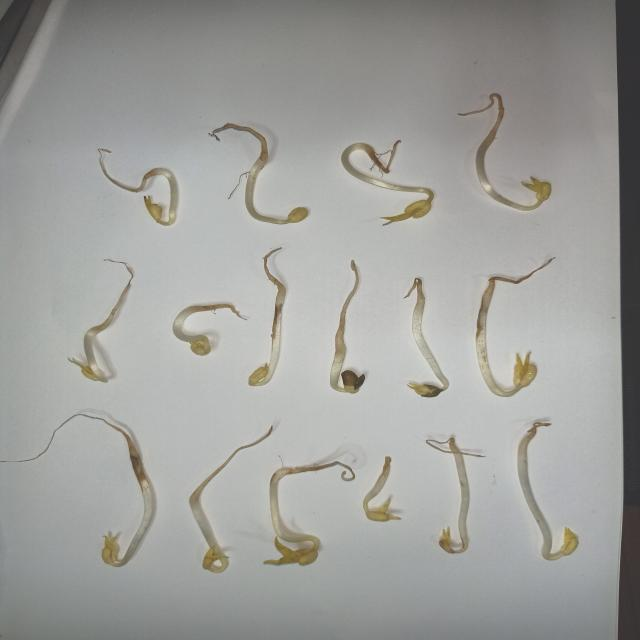leaf: (376, 200, 438, 226), (512, 354, 540, 389), (142, 197, 174, 227), (68, 356, 108, 380), (268, 548, 321, 565), (522, 178, 558, 202), (202, 548, 227, 572), (102, 534, 121, 562), (562, 527, 578, 557), (188, 336, 209, 356), (248, 364, 269, 384), (409, 383, 437, 398), (367, 510, 399, 523), (341, 371, 358, 393), (286, 208, 308, 224), (442, 528, 456, 553)
root: (26, 413, 149, 481), (180, 438, 260, 497), (462, 256, 573, 291), (86, 141, 152, 194), (84, 262, 132, 330), (325, 262, 363, 346), (207, 117, 267, 162), (293, 459, 355, 483), (366, 140, 400, 178), (265, 246, 291, 290), (484, 93, 506, 136), (404, 278, 425, 306), (200, 302, 250, 312), (424, 439, 462, 451), (524, 422, 549, 440), (381, 456, 396, 471)
stem: (516, 439, 568, 560), (474, 136, 540, 214), (476, 292, 519, 398), (106, 482, 155, 568), (271, 470, 318, 558), (182, 498, 230, 571), (253, 290, 290, 384), (412, 306, 448, 391), (246, 161, 294, 224), (444, 450, 467, 553), (338, 137, 363, 198), (153, 167, 179, 225), (173, 304, 207, 348), (85, 331, 112, 382), (361, 470, 387, 514), (327, 346, 344, 394)
